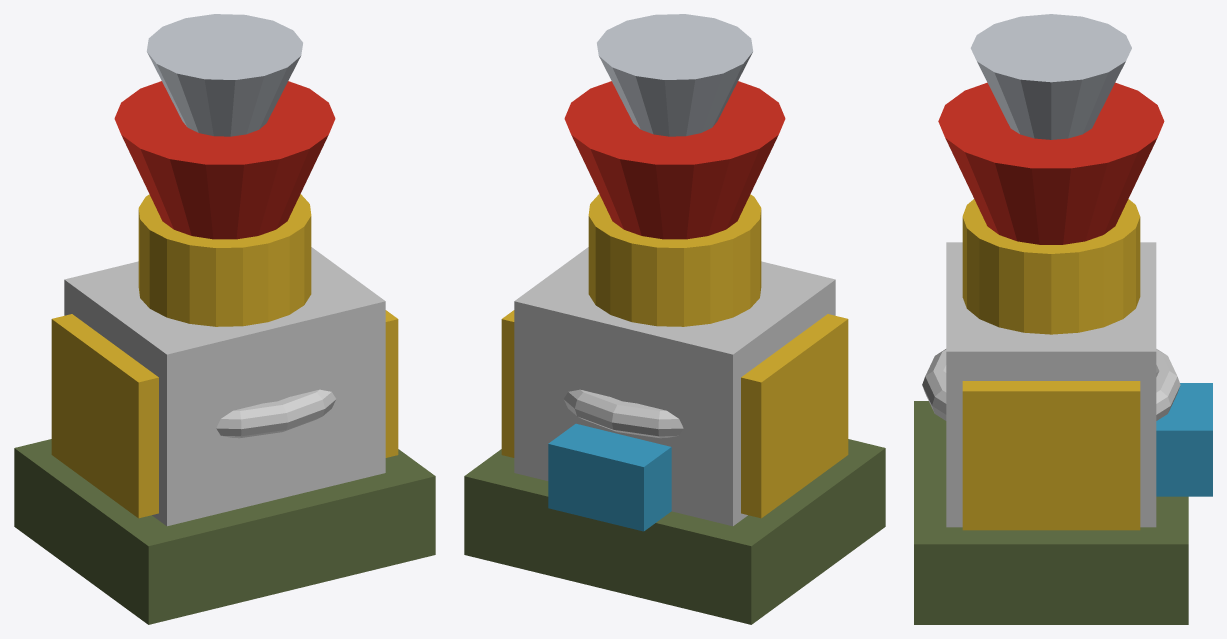
File: industrial_siren.obj
3 renders of one model, left to right at view 1: azimuth 30°, elevation 25°; view 2: azimuth 150°, elevation 25°; view 3: azimuth 270°, elevation 25°, orthographic. The views are drawn at different scales.
Visible parts, largest first — view 1: industrial_siren; view 2: industrial_siren; view 3: industrial_siren.
Part boxes in pixels (box(x1,y1,x2,y2)): industrial_siren: box(14, 14, 435, 624); industrial_siren: box(464, 14, 885, 624); industrial_siren: box(914, 14, 1212, 624).
Bounding box in the file's own units: 0.84 × 1.38 × 0.74.
